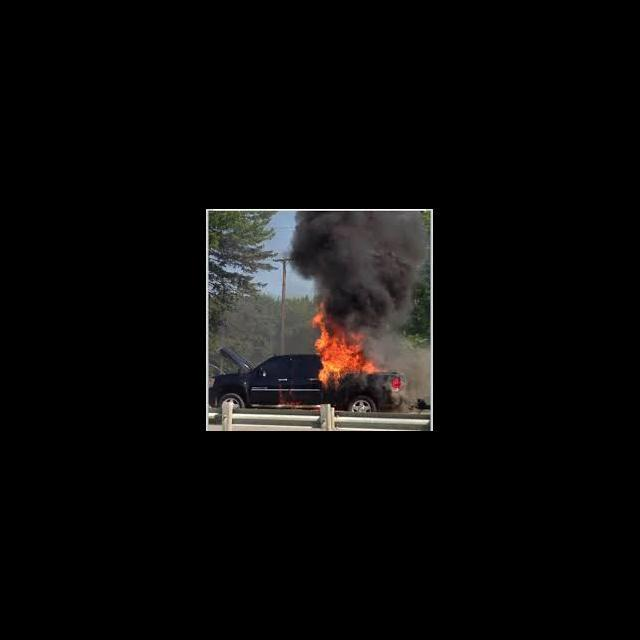Fire: (310, 304, 392, 389)
Smoke: (290, 210, 428, 306)
